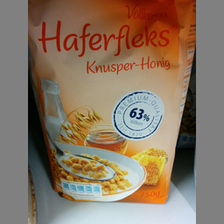cereal: (28, 1, 196, 204)
